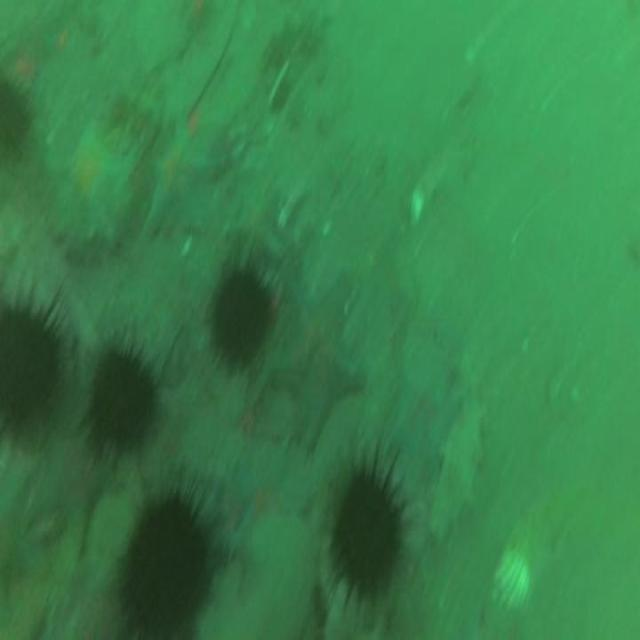echinus: (120, 494, 206, 640), (335, 474, 399, 593), (1, 305, 56, 428), (90, 350, 154, 450), (211, 269, 272, 368)
holothurian: (427, 400, 488, 540)
scallop: (494, 542, 534, 613)
starfish: (276, 281, 368, 449), (46, 122, 131, 248), (34, 436, 108, 560), (146, 118, 218, 234), (391, 352, 462, 468)
